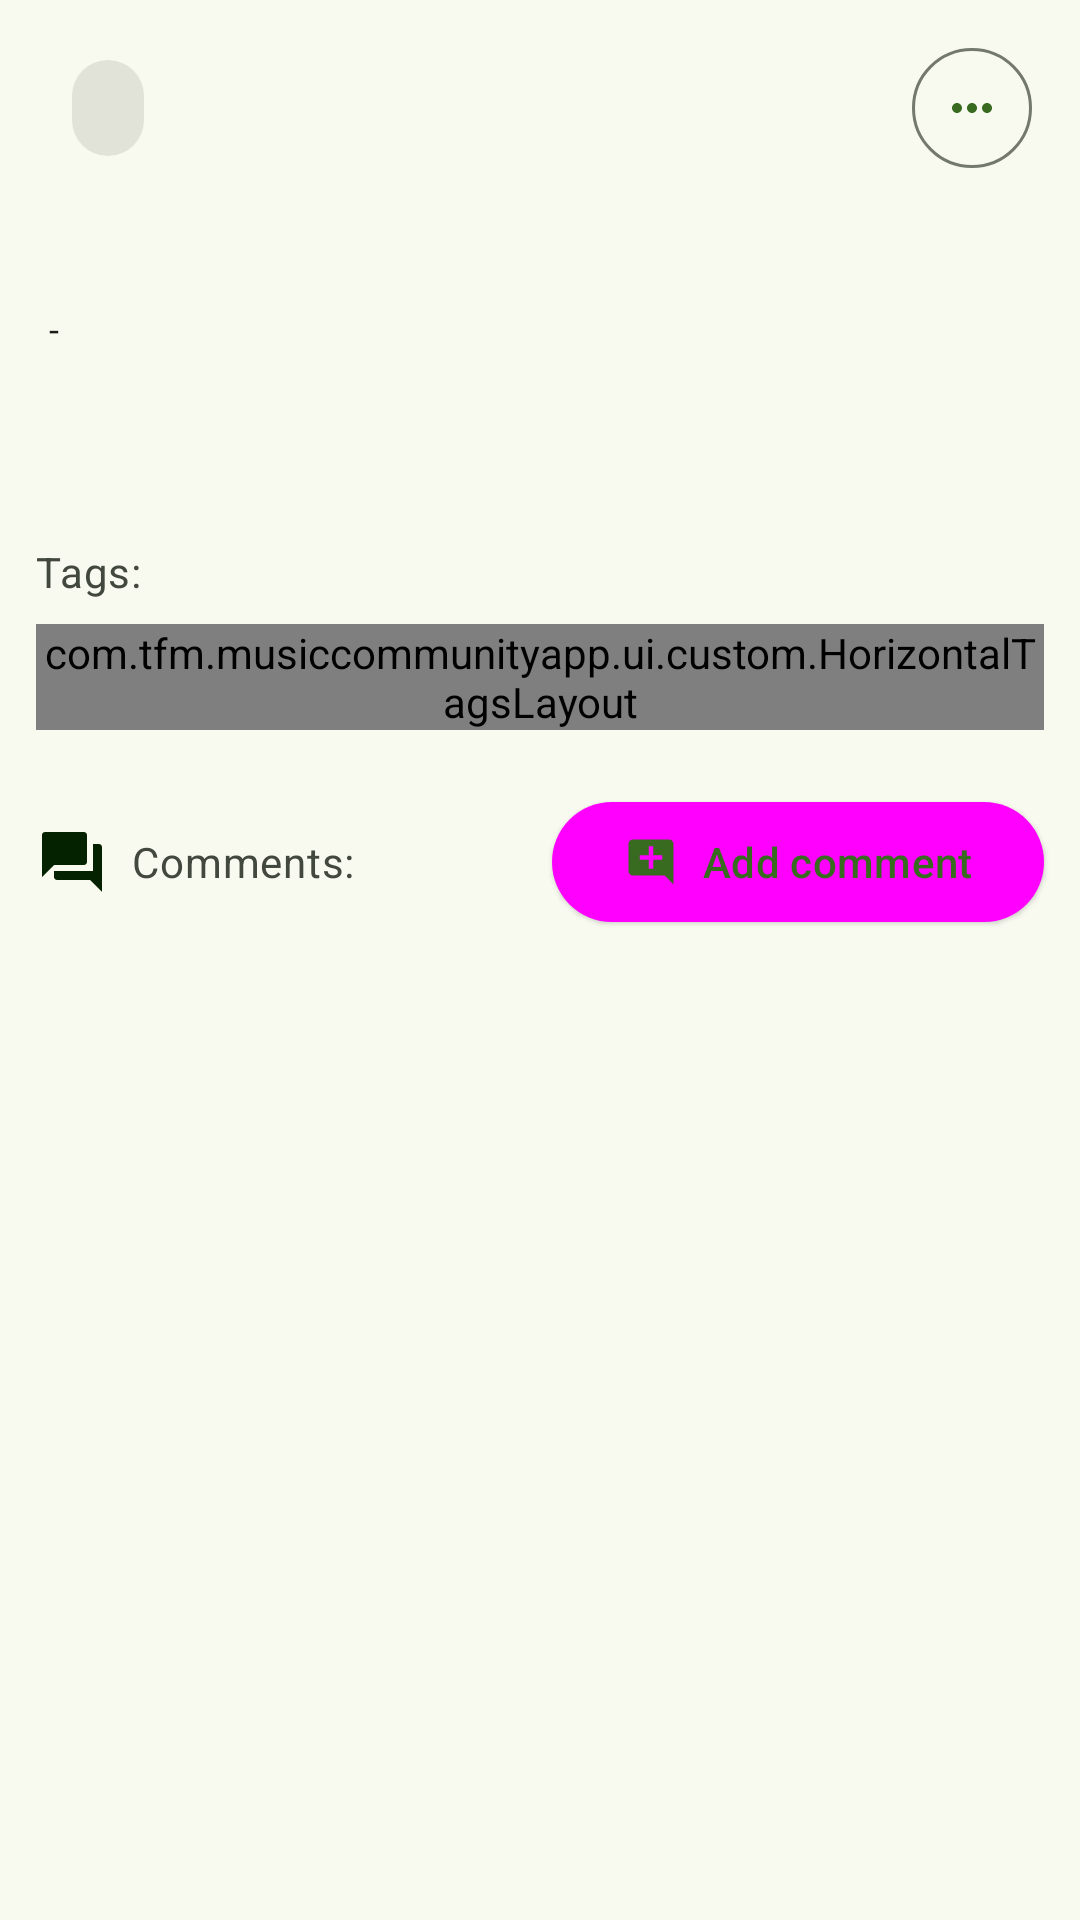

Point at icon controls on the screen. Image size 1080 x 1920, points as point (x, y).
dots more: point (972, 108)
